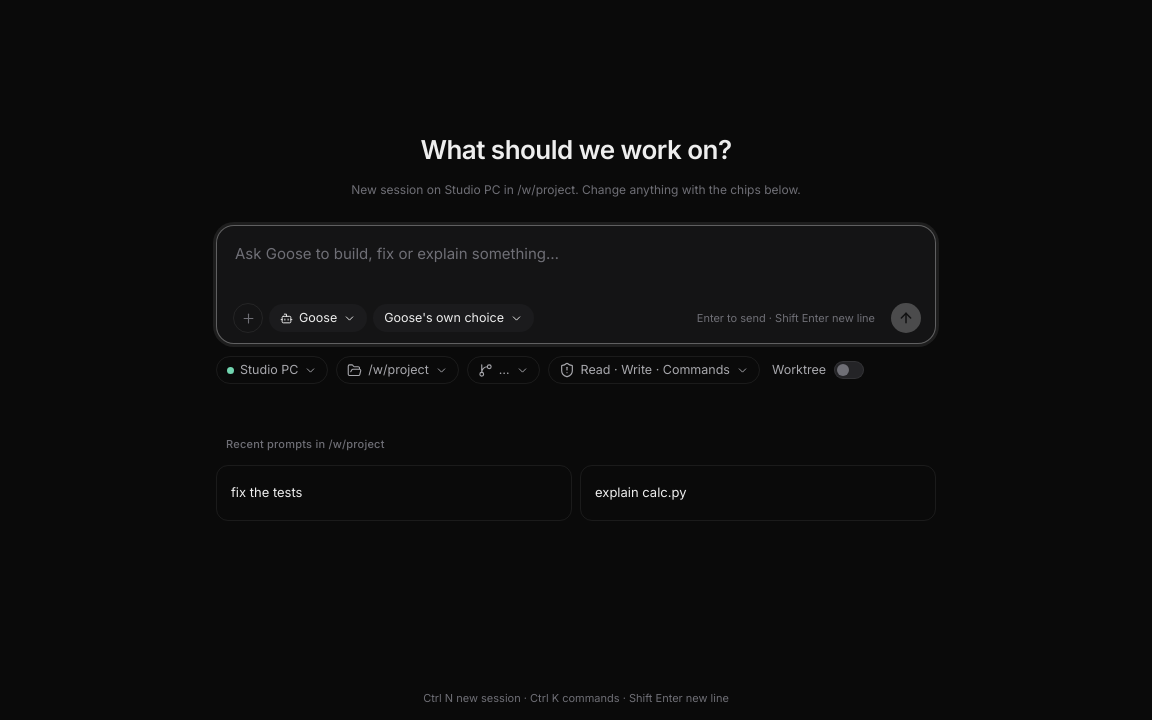
Test case: send › starts with the choices, docks the composer and animates it
The image size is (1152, 720).
In the text box named "Prompt for the new session": [577, 266] box [233,240,921,292], type "Add tests"
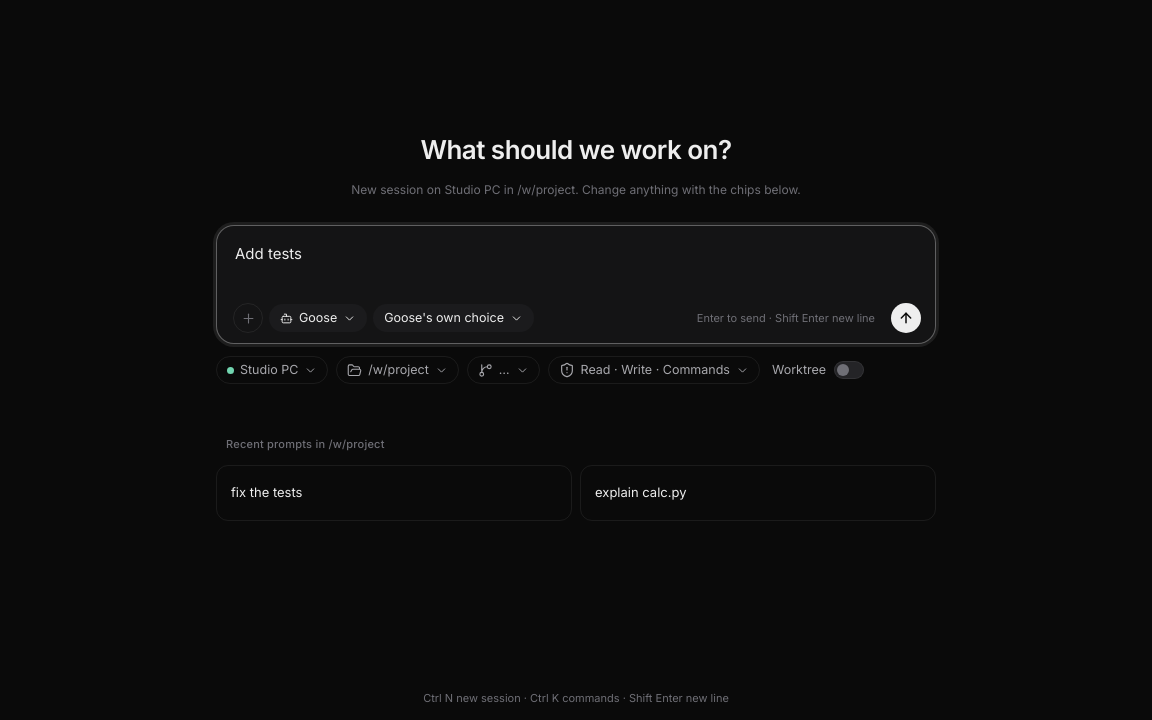
Press Enter in the text box named "Prompt for the new session", box [233,240,921,292]
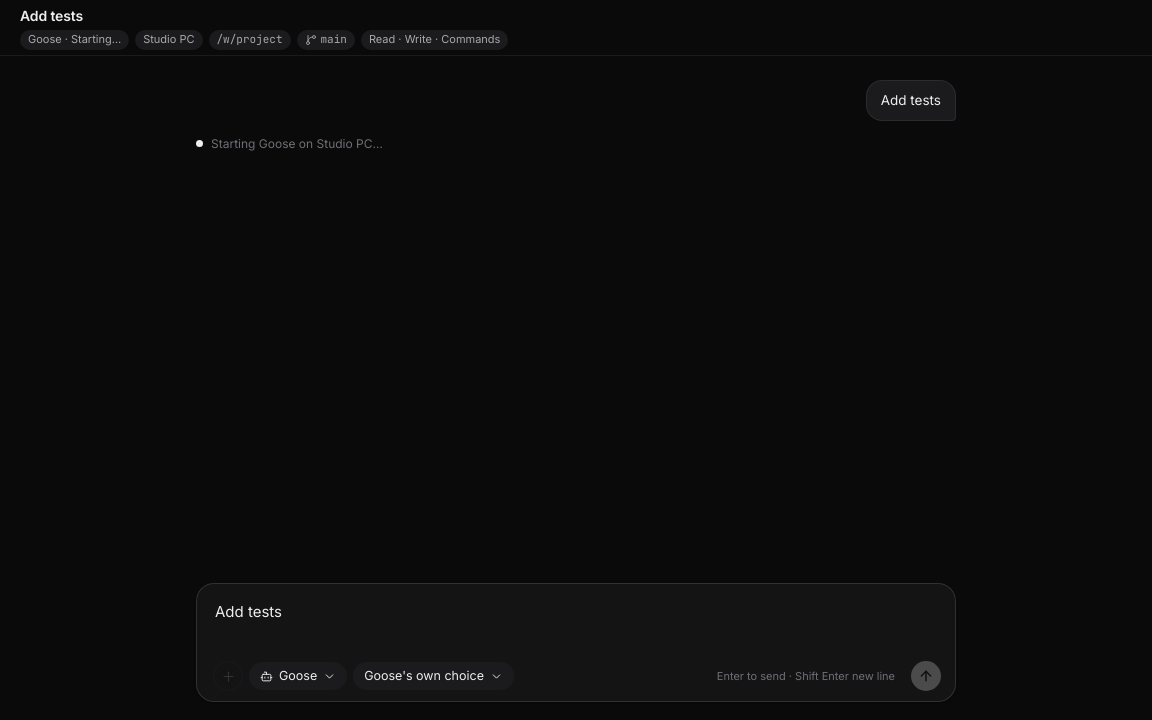
Expected: the element that starts with "Add tests" is shown, [196,582,956,702]
Expected: the text "Starting Goose on Studio PC…" is shown, [196,136,383,151]
